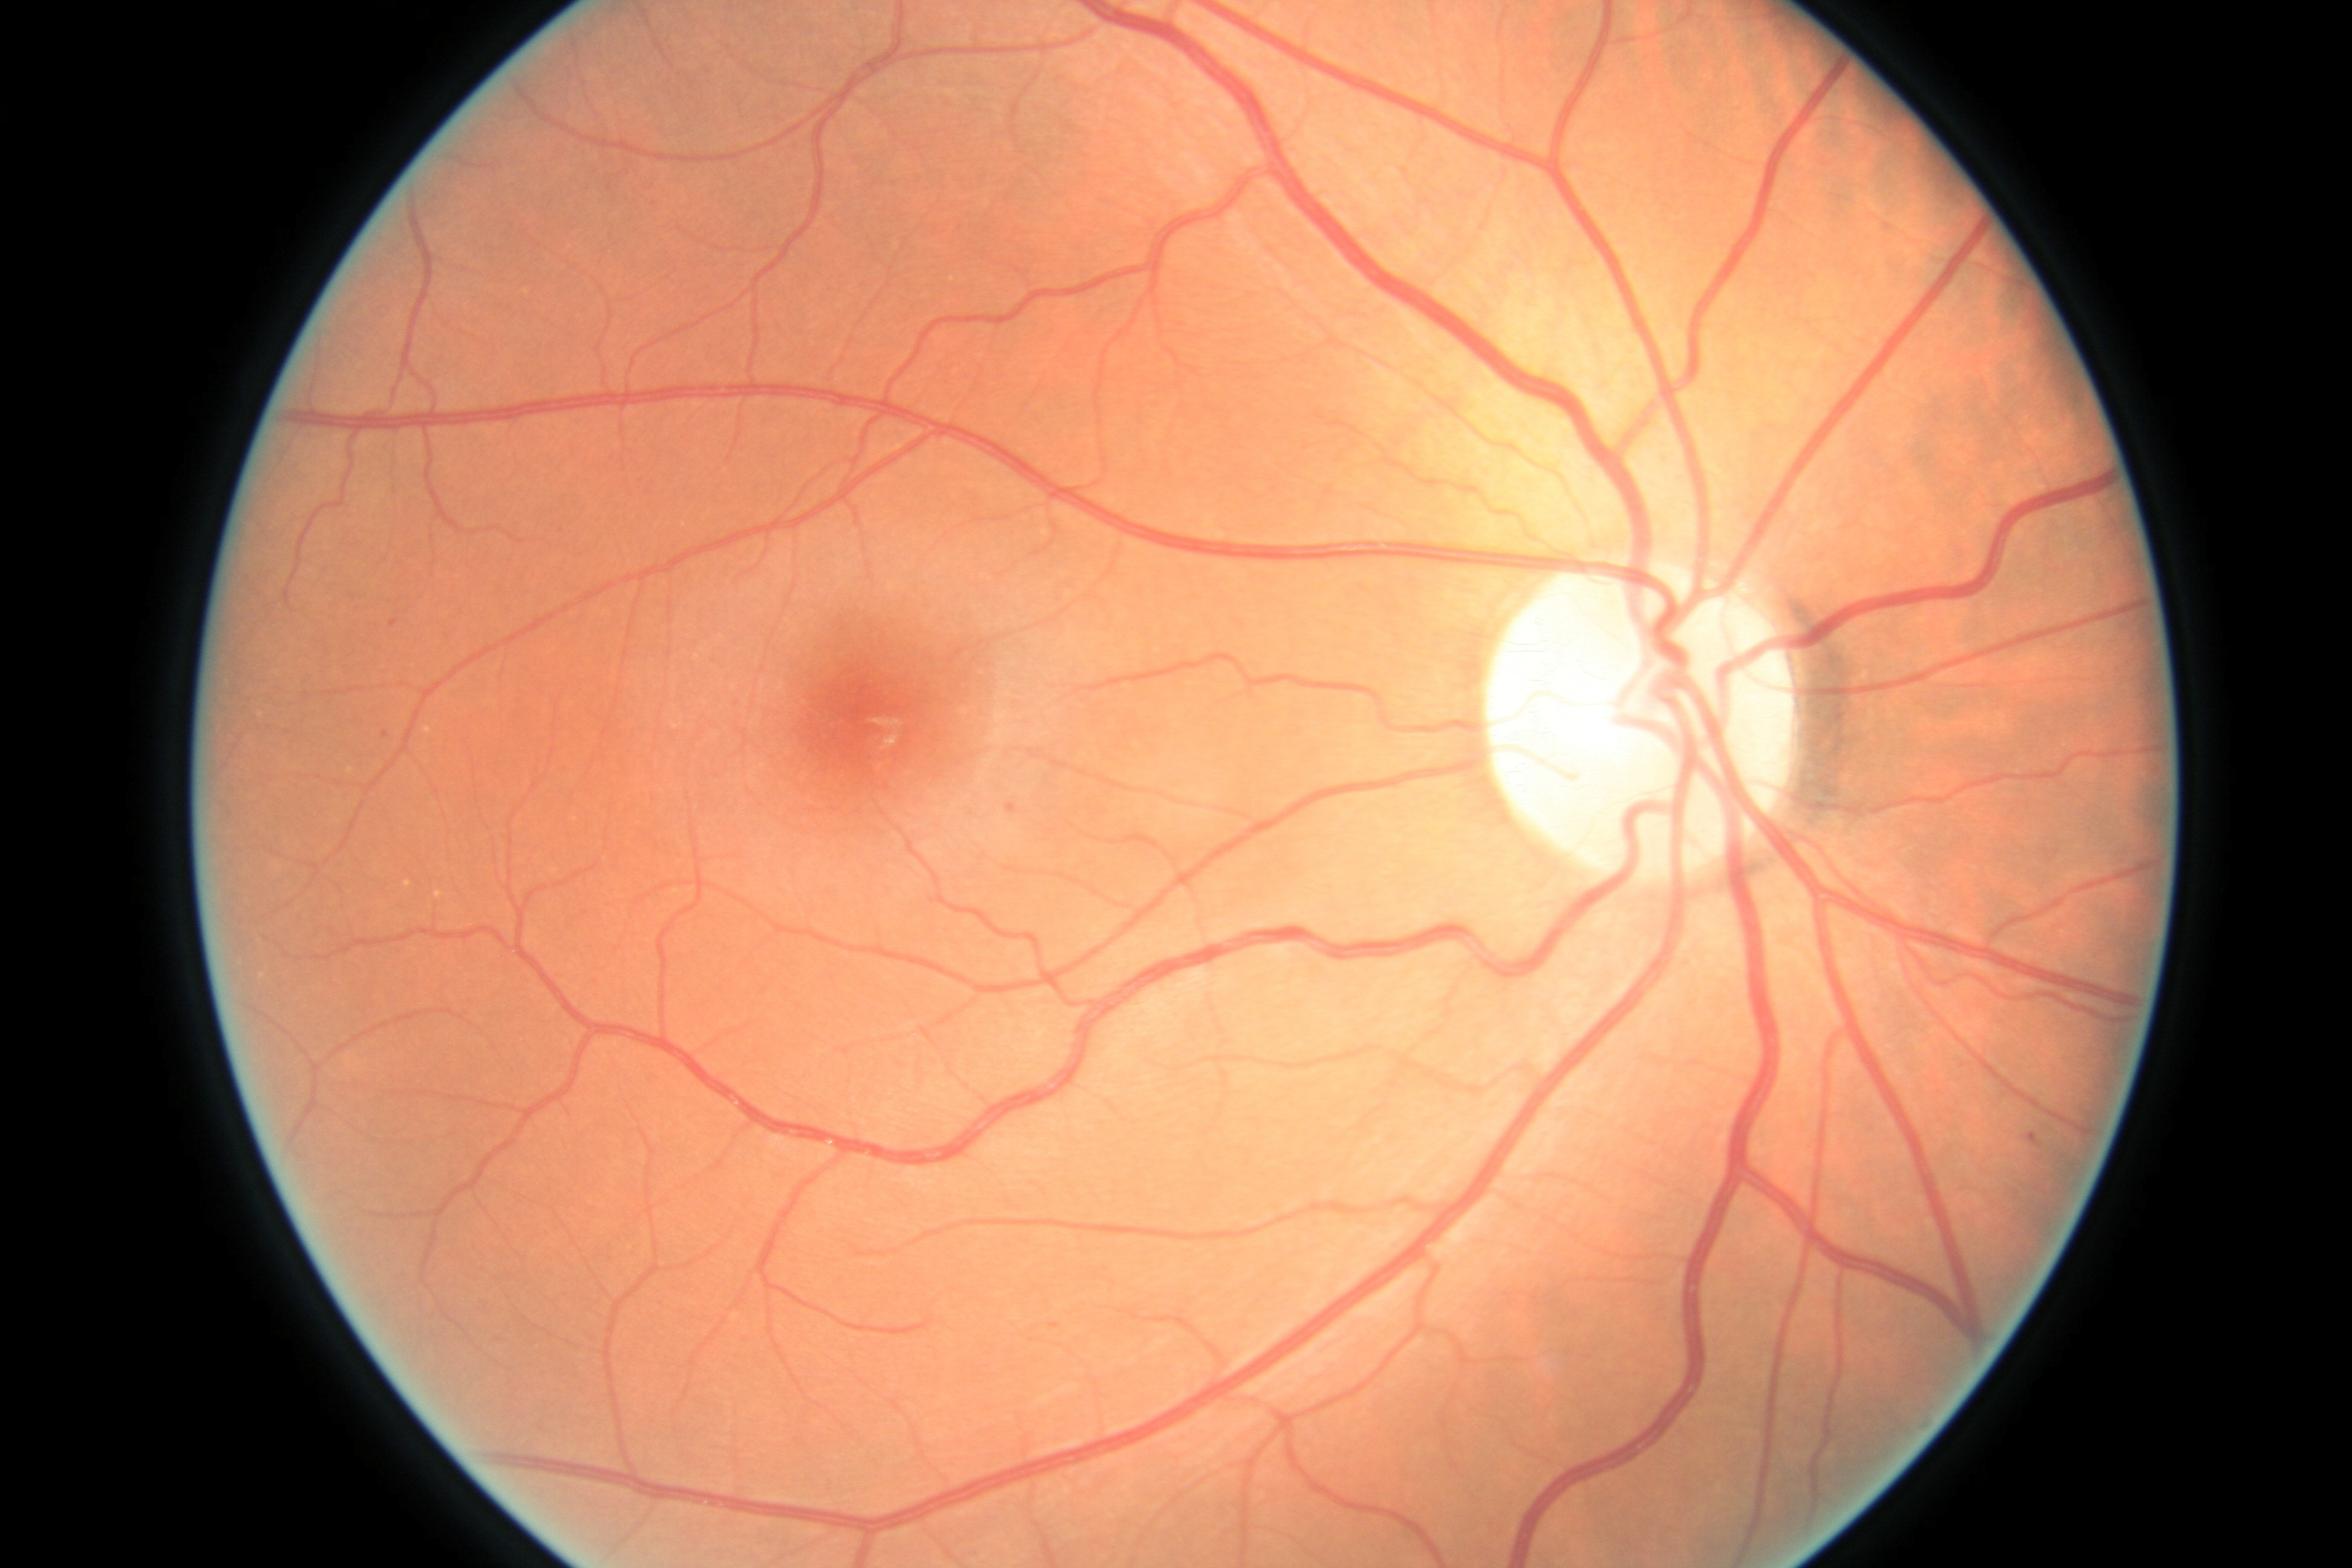Fovea: (745, 619, 971, 819)
OD: (1466, 544, 1823, 892)
